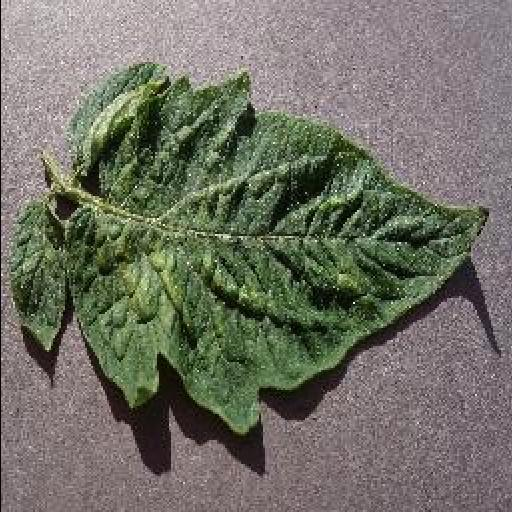disease_tomato: (9, 68, 495, 432)
